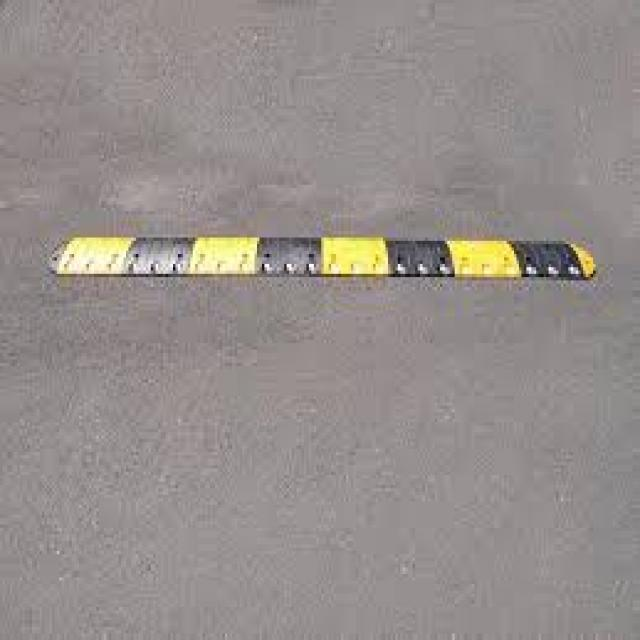Marked Bump: (53, 217, 600, 303)
